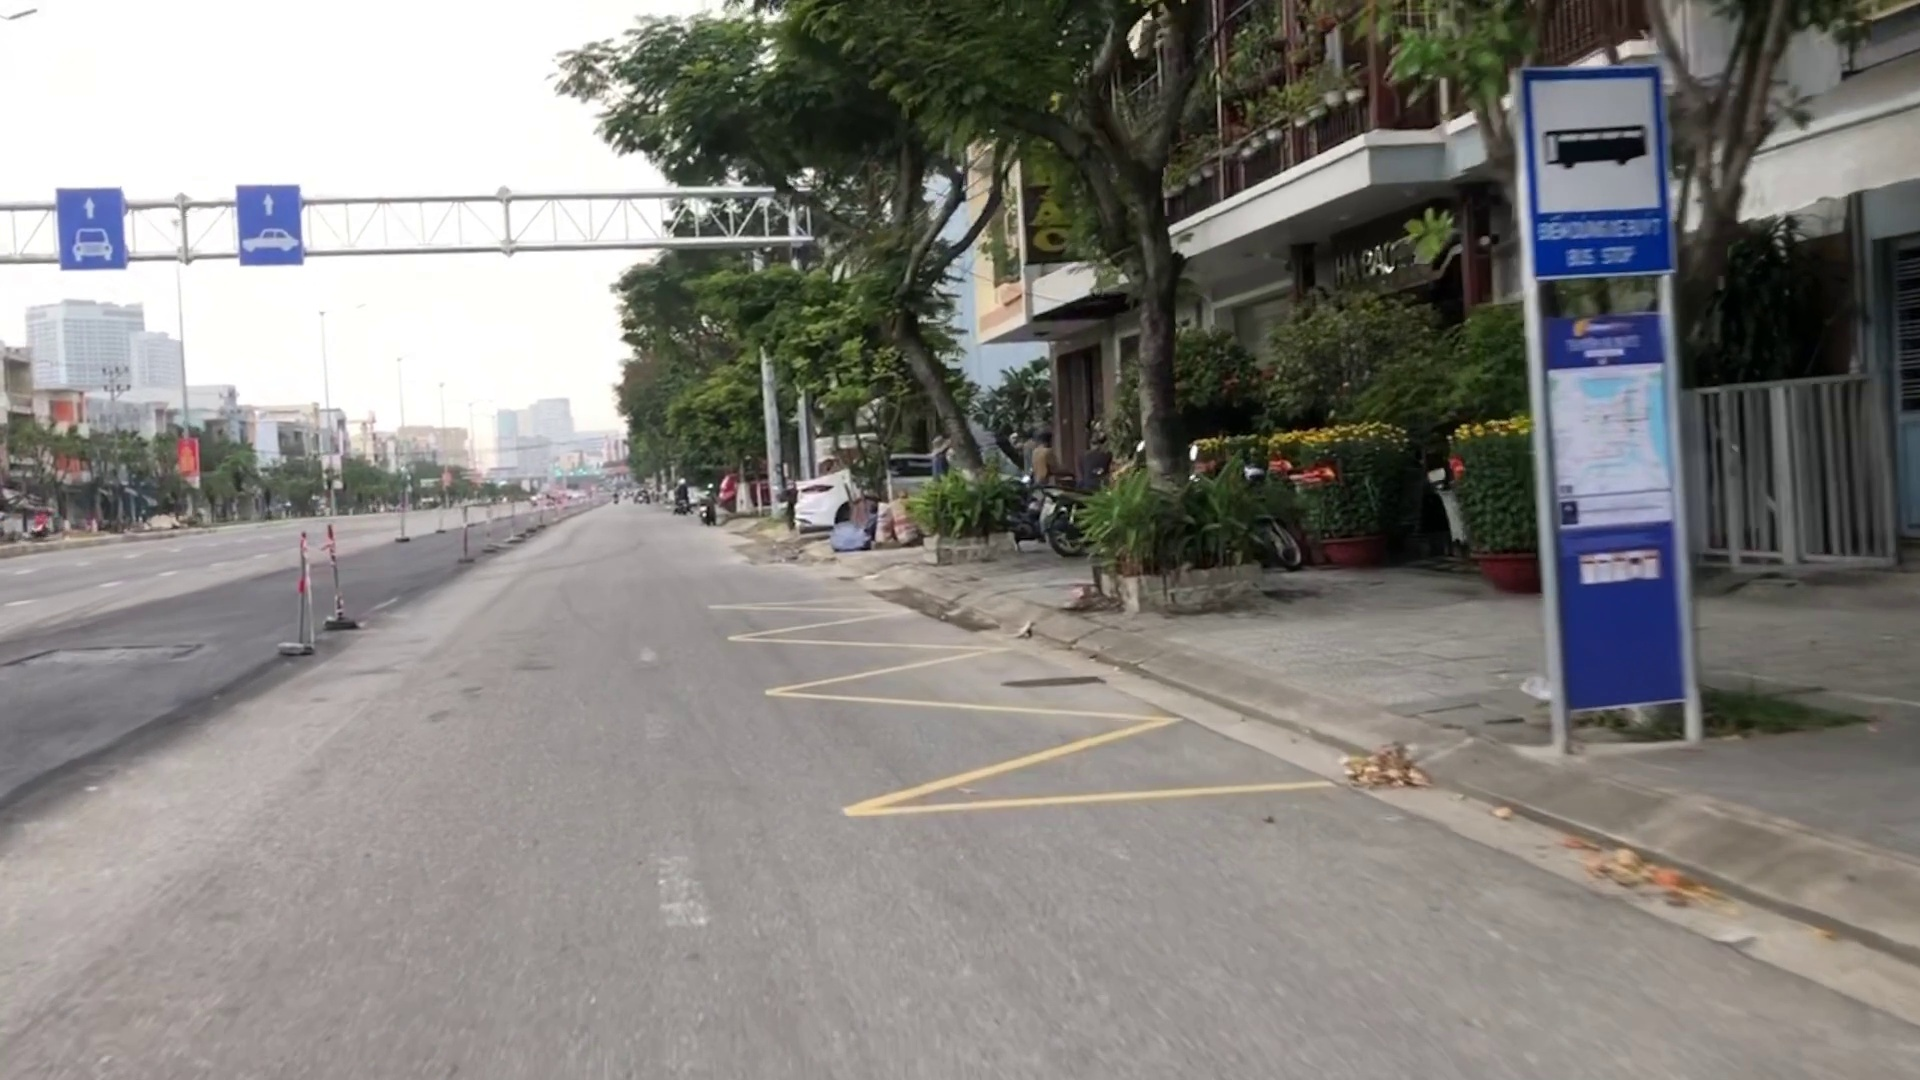Bien khac: (1515, 58, 1679, 280)
